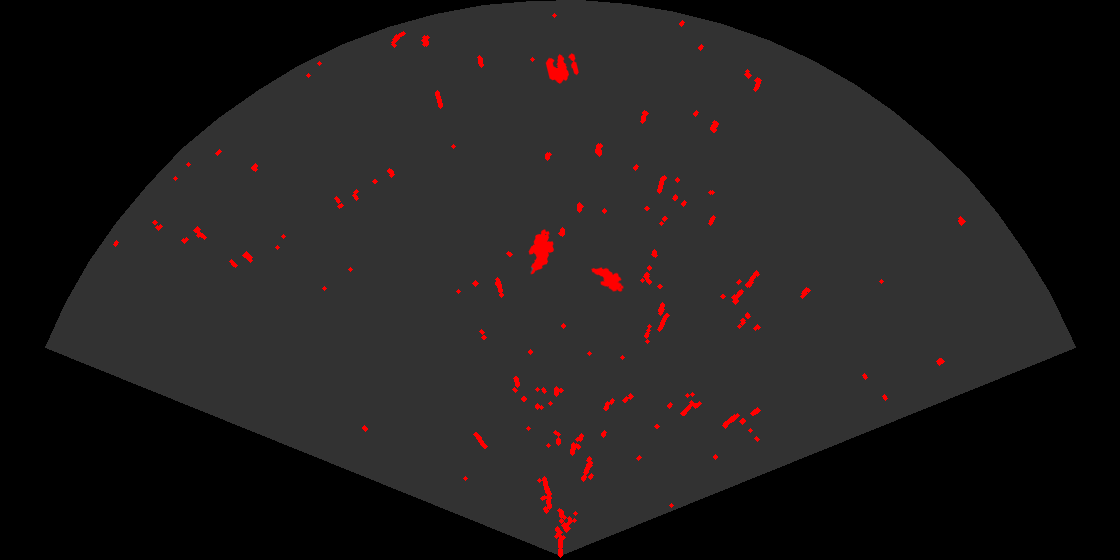AUV: (527, 228, 556, 276), (589, 266, 625, 293)
ball: (544, 52, 580, 85)
